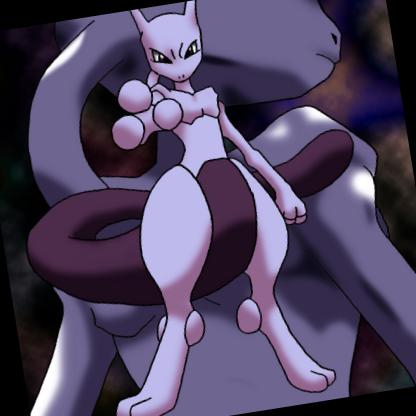Mewtwo: (1, 1, 416, 411)
